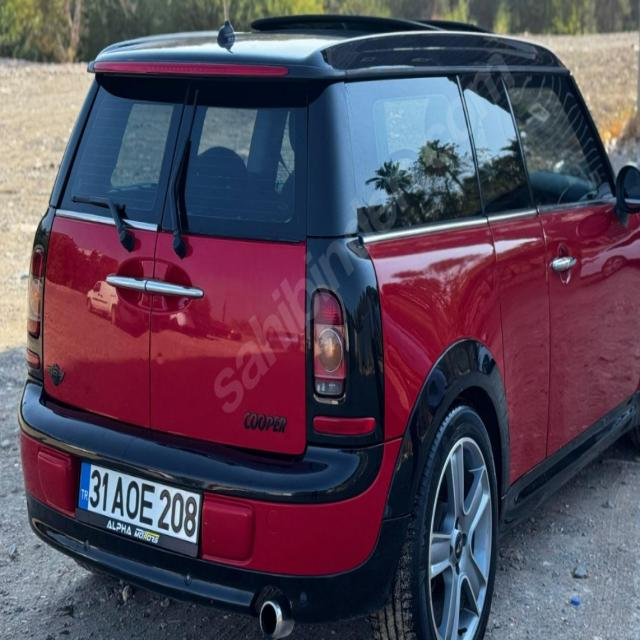mini: (43, 354, 69, 388)
